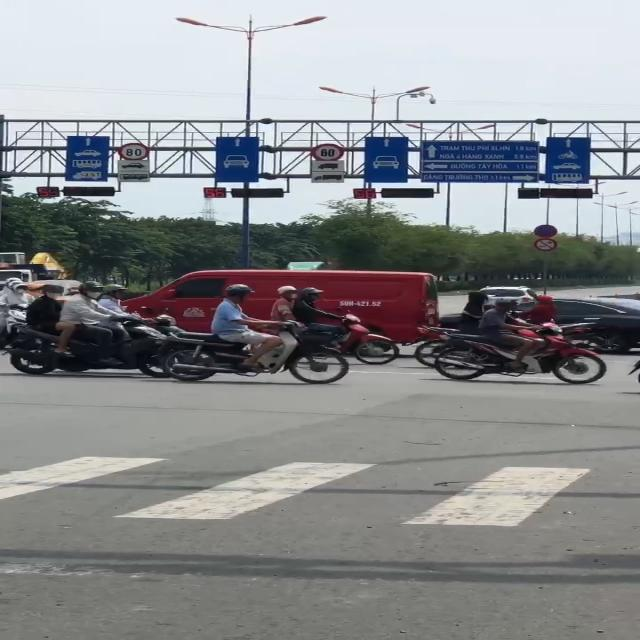Bien bao toc do toi da cho phep: (308, 142, 349, 163), (118, 140, 153, 162)
